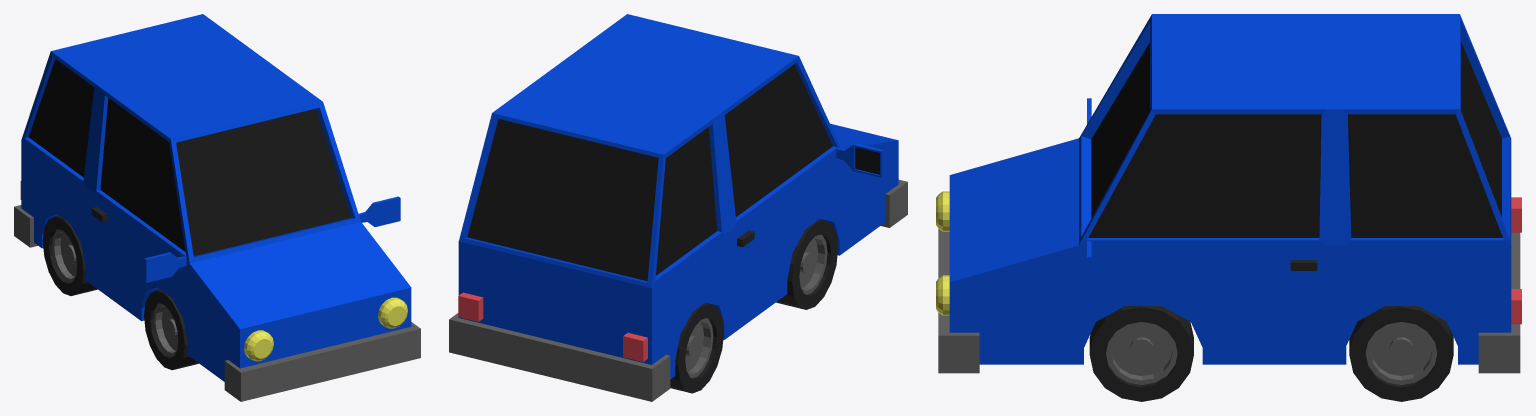
Rendered from car01.fbx.
3 views of the same model, side by side, from view 1: azimuth 30°, elevation 25°; view 2: azimuth 150°, elevation 25°; view 3: azimuth 270°, elevation 25° (orthographic). The views are drawn at different scales.
Parts seen in each view (by area): view 1: Cube.006; view 2: Cube.006; view 3: Cube.006.
Boxes of the visible parts, <box> form: Cube.006: <box>14,14,420,401</box>; Cube.006: <box>449,14,907,401</box>; Cube.006: <box>936,14,1521,401</box>.
Size of the model in its own units: 323 by 271 by 502.
